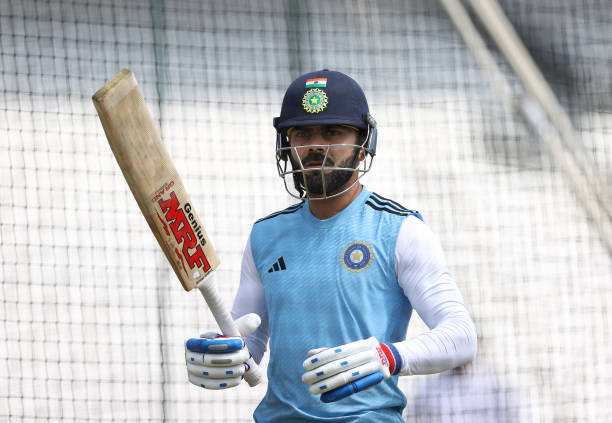bottom left: (116, 61, 146, 90)
bottom right: (78, 86, 112, 115)
top left: (209, 246, 235, 278)
top right: (163, 272, 201, 304)
